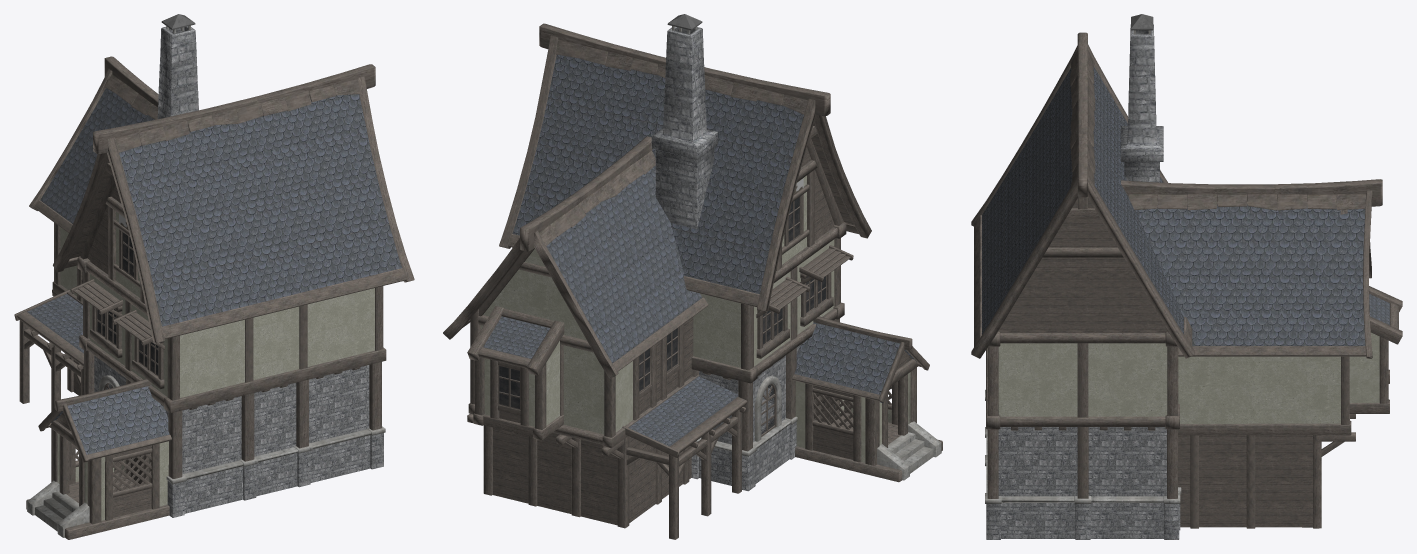
The model's file is manor.glb.
The picture shows the model from 3 angles, left to right: view 1: azimuth 30°, elevation 25°; view 2: azimuth 150°, elevation 25°; view 3: azimuth 270°, elevation 25°; orthographic projection. The views are drawn at different scales.
Visible parts, largest first — view 1: pasted__Cube.219_blinn1_0; view 2: pasted__Cube.219_blinn1_0; view 3: pasted__Cube.219_blinn1_0.
Boxes of the visible parts, x1,y1,x2,y2 form: pasted__Cube.219_blinn1_0: [14, 14, 414, 539]; pasted__Cube.219_blinn1_0: [443, 14, 942, 539]; pasted__Cube.219_blinn1_0: [971, 14, 1402, 539].
Size of the model in its own units: 10.69 by 12.6 by 10.77.
1 material, 1 textured.
